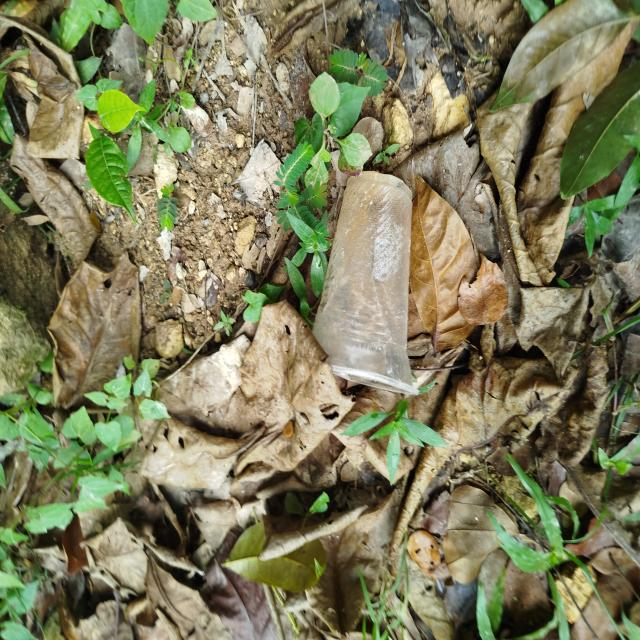plastic: (305, 159, 437, 407)
